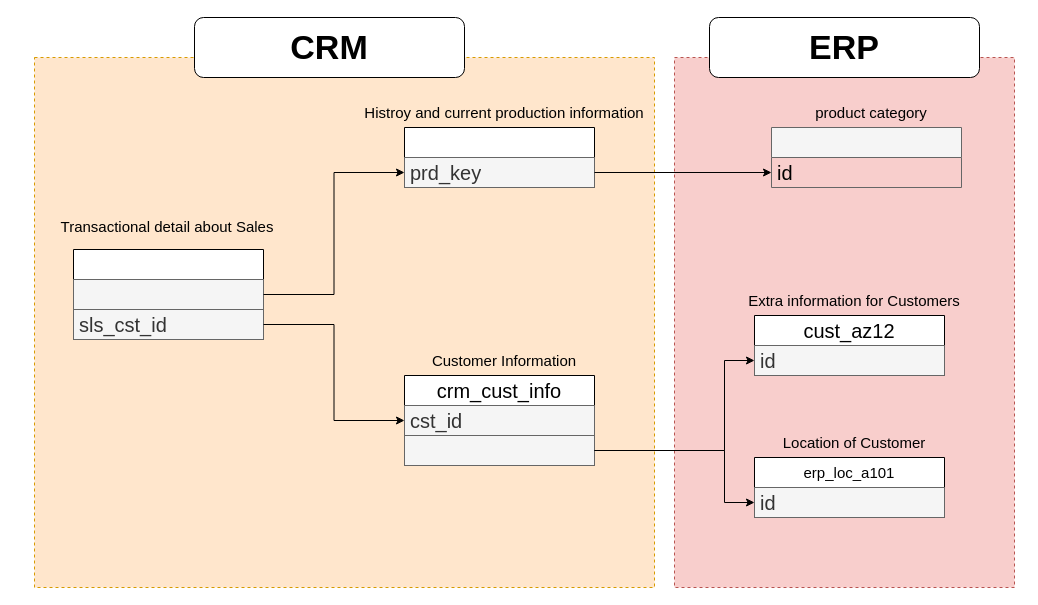
Some shapes in this 1038 by 605 pixel diagram are drawn without their labels. Here are the shapes that lost their labels. From the top down, the box of each, then its label:
(404, 126, 594, 188): crm_prd_info
(770, 126, 962, 188): erp_px_cat_g1v2
(72, 248, 264, 340): crm_sales_detail
(72, 278, 264, 310): sls_prd_key
(404, 434, 594, 466): cst_key
